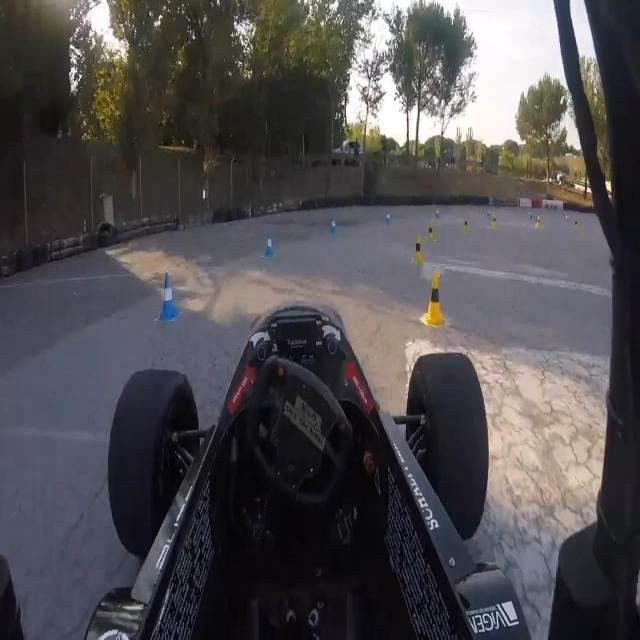blue_cone: (157, 270, 181, 322), (265, 237, 275, 258), (329, 218, 338, 236), (386, 212, 391, 228)
yellow_cone: (423, 269, 446, 327), (414, 235, 424, 264), (426, 222, 435, 243), (534, 214, 542, 230), (462, 217, 470, 233), (490, 214, 498, 229)
